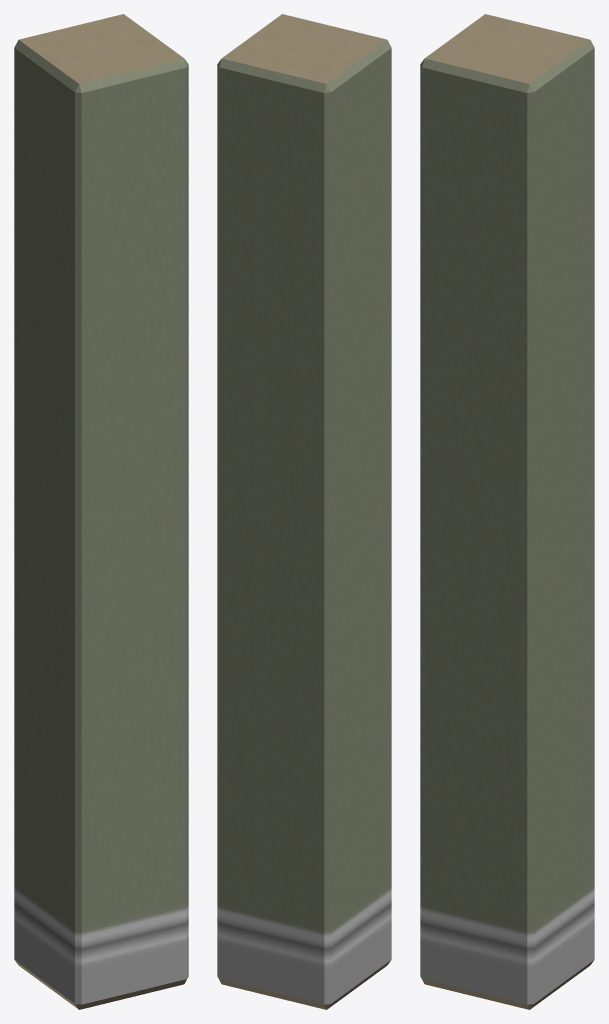
Rendered from column3_5.fbx.
3 renders of one model, left to right at view 1: azimuth 30°, elevation 25°; view 2: azimuth 150°, elevation 25°; view 3: azimuth 330°, elevation 25°, orthographic.
Parts seen in each view (by area): view 1: column3_d; view 2: column3_d; view 3: column3_d.
Boxes of the visible parts, x1,y1,x2,y2 form: column3_d: [14, 14, 188, 1009]; column3_d: [217, 14, 391, 1009]; column3_d: [420, 14, 594, 1009].
Size of the model in its own units: 52 by 404 by 52.
